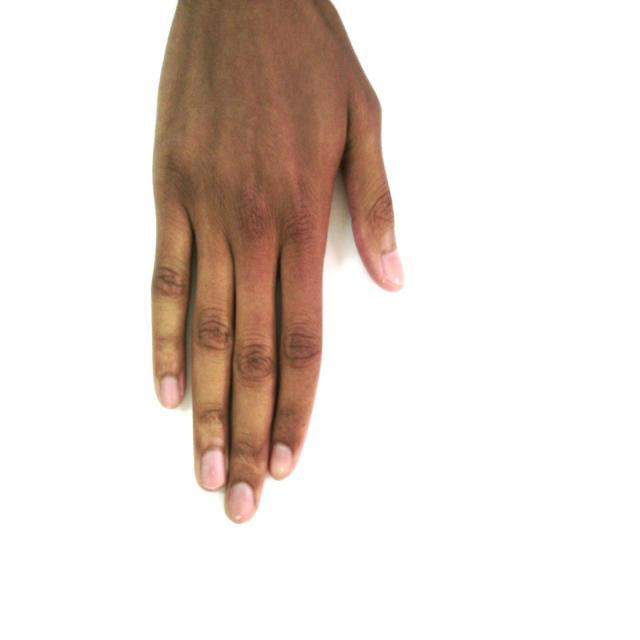Fingernail: (201, 449, 225, 489), (228, 483, 254, 519), (271, 445, 293, 479), (383, 252, 404, 286), (160, 376, 180, 408)
